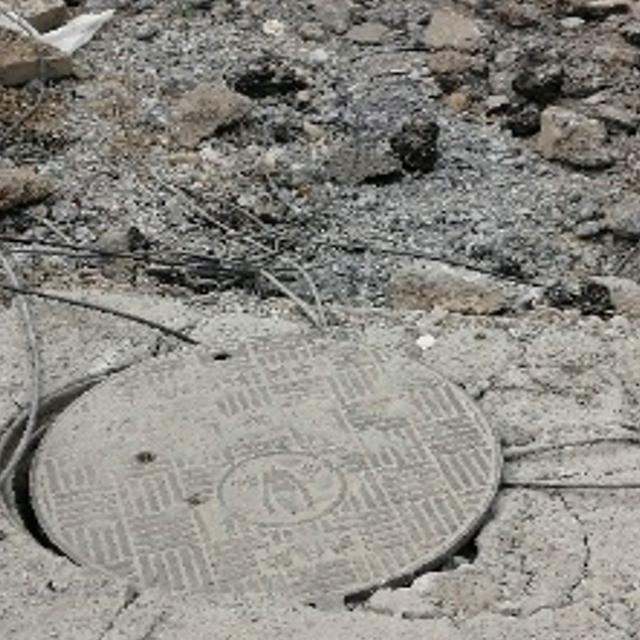uncovered: (0, 339, 503, 600)
